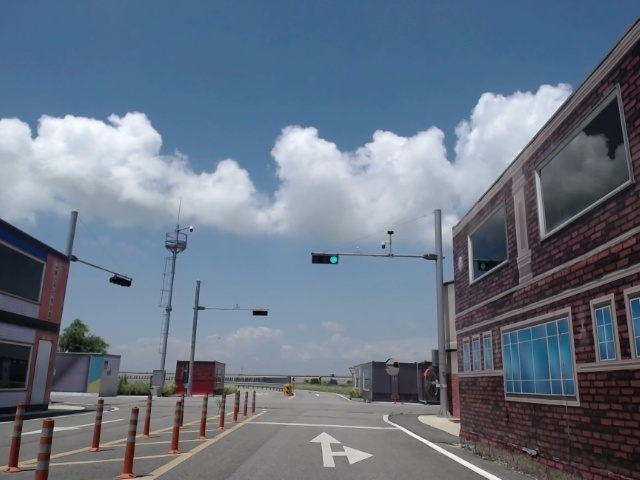green_3: (314, 255, 338, 263)
